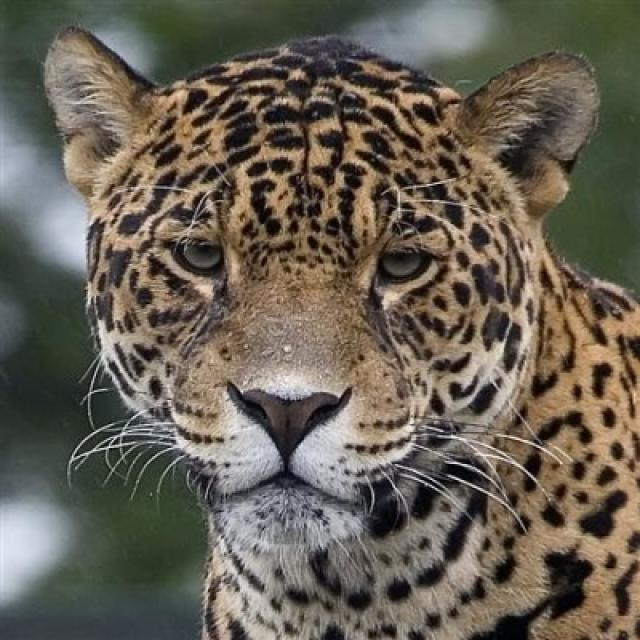Jaguar: (42, 26, 638, 638)
